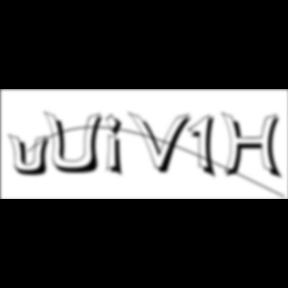1: (187, 114, 222, 182)
H: (221, 112, 287, 182)
U: (44, 110, 108, 176)
V: (128, 110, 196, 176)
i: (106, 112, 130, 180)
u: (8, 132, 56, 178)
